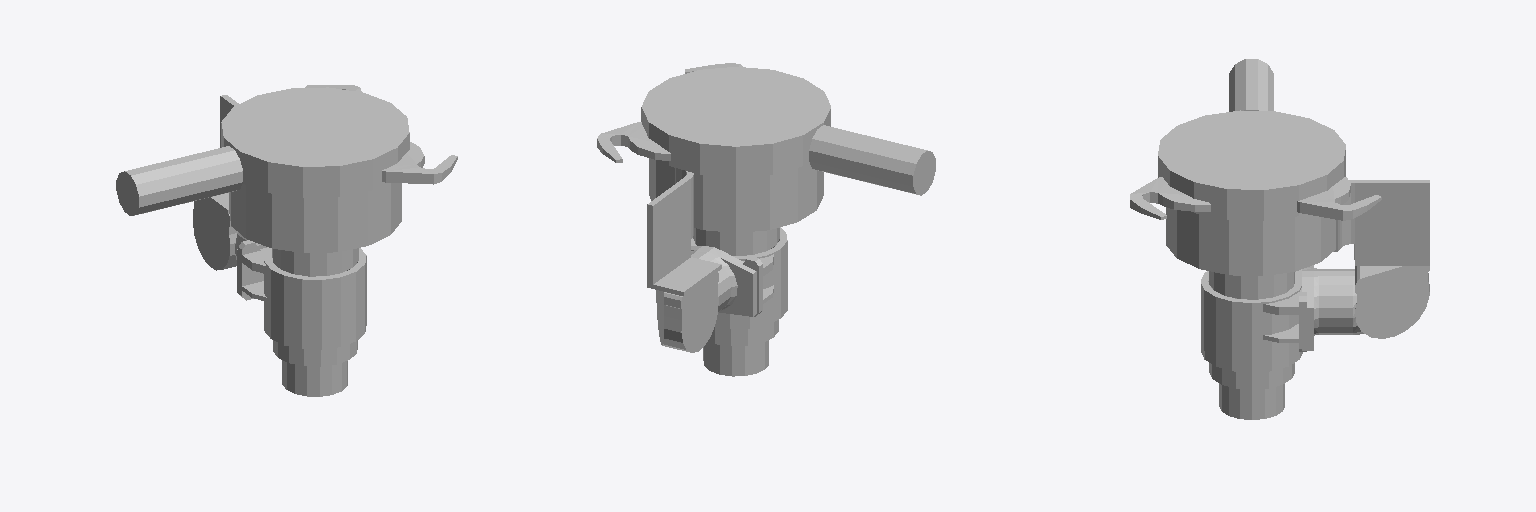
The model's file is armInstrumentBase.obj.
3 renders of one model, left to right at view 1: azimuth 30°, elevation 25°; view 2: azimuth 150°, elevation 25°; view 3: azimuth 270°, elevation 25°, orthographic.
Parts seen in each view (by area): view 1: arm_04.001_Mesh.007; view 2: arm_04.001_Mesh.007; view 3: arm_04.001_Mesh.007.
Boxes of the visible parts, x1,y1,x2,y2 form: arm_04.001_Mesh.007: [116, 85, 457, 396]; arm_04.001_Mesh.007: [597, 63, 935, 376]; arm_04.001_Mesh.007: [1130, 59, 1429, 419].
Bounding box in the file's own units: 0.3364 × 0.2888 × 0.3073.